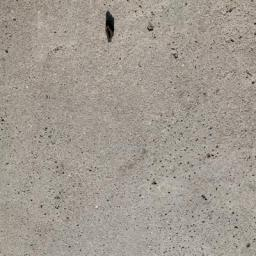FOD: (103, 9, 120, 50)
